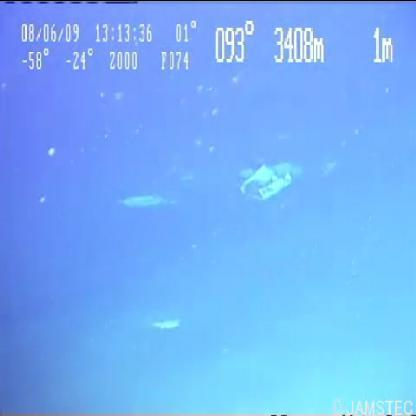Bio: (112, 179, 188, 221), (148, 311, 182, 333)
Rác: (211, 150, 327, 209)
